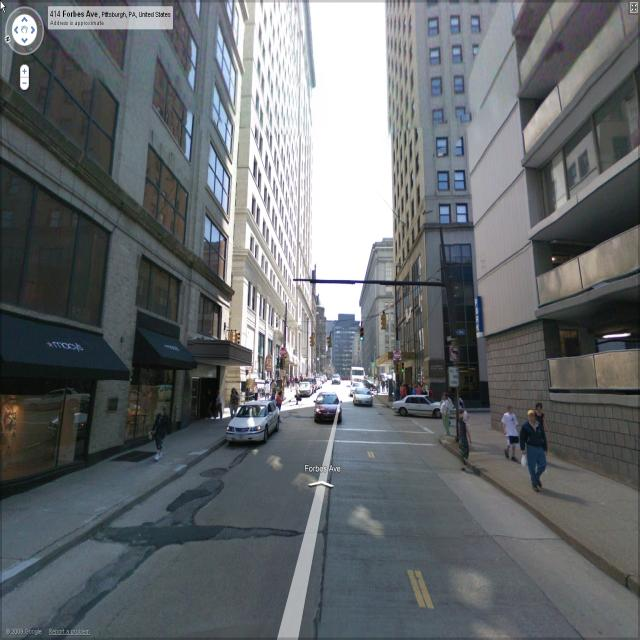b_1: (4, 0, 240, 398), (400, 1, 492, 411), (240, 1, 312, 370), (359, 233, 392, 355), (322, 311, 366, 385)
